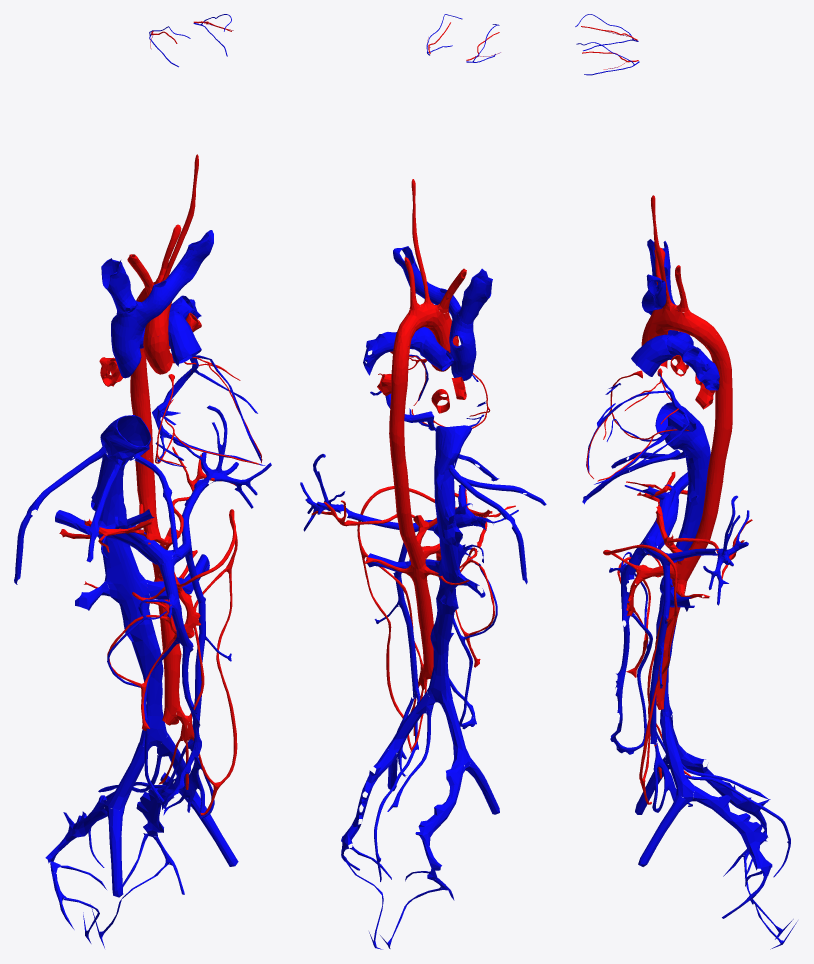
File: VH_M_Blood_Vasculature_0.1.glb
3 views of the same model, side by side, from view 1: azimuth 30°, elevation 25°; view 2: azimuth 150°, elevation 25°; view 3: azimuth 270°, elevation 25° (orthographic). The views are drawn at different scales.
Visible parts, largest first — view 1: VH_M_inferior_vena_cava_b, VH_M_descending_aorta_b, VH_M_inferior_vena_cava_a, VH_M_superior_mesenteric_vein, VH_M_splenic_vein, VH_M_brachiocephalic_vein_L, VH_M_superior_vena_cava, VH_M_marginal_artery_of_Drummond, VH_M_descending_aorta_a, VH_M_brachiocephalic_vein_R, VH_M_pulmonary_trunk, VH_M_inferior_mesenteric_vein (+18 smaller); view 2: VH_M_inferior_vena_cava_b, VH_M_descending_aorta_b, VH_M_descending_aorta_a, VH_M_inferior_vena_cava_a, VH_M_internal_iliac_vein_R, VH_M_aortic_arch, VH_M_superior_vena_cava, VH_M_splenic_vein, VH_M_brachiocephalic_vein_R, VH_M_brachiocephalic_vein_L, VH_M_internal_iliac_vein_L, VH_M_marginal_artery_of_Drummond (+8 smaller); view 3: VH_M_descending_aorta_a, VH_M_descending_aorta_b, VH_M_inferior_vena_cava_b, VH_M_inferior_vena_cava_a, VH_M_internal_iliac_vein_L, VH_M_aortic_arch, VH_M_splenic_vein, VH_M_superior_mesenteric_vein, VH_M_pulmonary_artery_L, VH_M_inferior_mesenteric_vein, VH_M_marginal_artery_of_Drummond, VH_M_common_iliac_vein_L (+11 smaller).
Boxes of the visible parts, x1,y1,x2,y2 form: VH_M_inferior_vena_cava_b: [91, 471, 167, 748]; VH_M_descending_aorta_b: [135, 457, 181, 725]; VH_M_inferior_vena_cava_a: [100, 415, 151, 479]; VH_M_superior_mesenteric_vein: [157, 561, 201, 806]; VH_M_splenic_vein: [168, 405, 271, 564]; VH_M_brachiocephalic_vein_L: [141, 230, 213, 319]; VH_M_superior_vena_cava: [111, 301, 151, 378]; VH_M_marginal_artery_of_Drummond: [178, 509, 237, 815]; VH_M_descending_aorta_a: [130, 295, 153, 458]; VH_M_brachiocephalic_vein_R: [101, 258, 136, 313]; VH_M_pulmonary_trunk: [168, 310, 201, 366]; VH_M_inferior_mesenteric_vein: [185, 545, 205, 750]; VH_M_inferior_vena_cava_b: [427, 485, 462, 704]; VH_M_descending_aorta_b: [394, 483, 433, 679]; VH_M_descending_aorta_a: [389, 342, 409, 487]; VH_M_inferior_vena_cava_a: [434, 425, 472, 491]; VH_M_internal_iliac_vein_R: [415, 759, 465, 880]; VH_M_aortic_arch: [394, 302, 457, 347]; VH_M_superior_vena_cava: [449, 309, 476, 380]; VH_M_splenic_vein: [300, 454, 437, 532]; VH_M_brachiocephalic_vein_R: [458, 268, 492, 324]; VH_M_brachiocephalic_vein_L: [393, 246, 460, 318]; VH_M_internal_iliac_vein_L: [341, 749, 396, 849]; VH_M_marginal_artery_of_Drummond: [357, 486, 434, 749]; VH_M_descending_aorta_a: [705, 332, 732, 485]; VH_M_descending_aorta_b: [654, 482, 722, 709]; VH_M_inferior_vena_cava_b: [656, 467, 708, 718]; VH_M_inferior_vena_cava_a: [655, 402, 710, 469]; VH_M_internal_iliac_vein_L: [692, 785, 772, 876]; VH_M_aortic_arch: [644, 304, 717, 346]; VH_M_splenic_vein: [642, 495, 749, 605]; VH_M_superior_mesenteric_vein: [610, 542, 648, 748]; VH_M_pulmonary_artery_L: [666, 336, 719, 390]; VH_M_inferior_mesenteric_vein: [649, 558, 670, 744]; VH_M_marginal_artery_of_Drummond: [603, 544, 678, 804]; VH_M_common_iliac_vein_L: [661, 716, 695, 802].
Size of the model in its own units: 0.2363 by 0.8741 by 0.1931.
